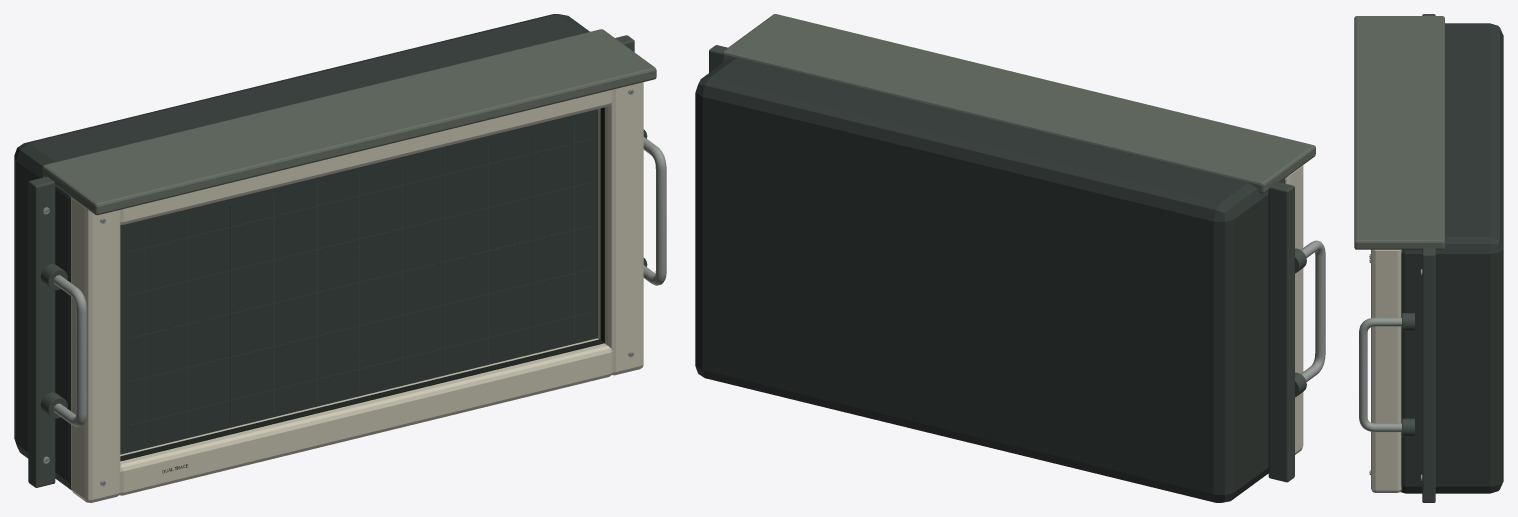
File: SCOPE_Housing.fbx
3 renders of one model, left to right at view 1: azimuth 30°, elevation 25°; view 2: azimuth 150°, elevation 25°; view 3: azimuth 270°, elevation 25°, orthographic. The views are drawn at different scales.
Visible parts, largest first — view 1: SCOPE_Housing_EXPORT; view 2: SCOPE_Housing_EXPORT; view 3: SCOPE_Housing_EXPORT.
Part boxes in pixels (x1,y1,x2,y2): SCOPE_Housing_EXPORT: [14, 14, 666, 502]; SCOPE_Housing_EXPORT: [695, 14, 1325, 502]; SCOPE_Housing_EXPORT: [1354, 14, 1503, 502].
Size of the model in its own units: 1.54 by 0.7685 by 0.402.
